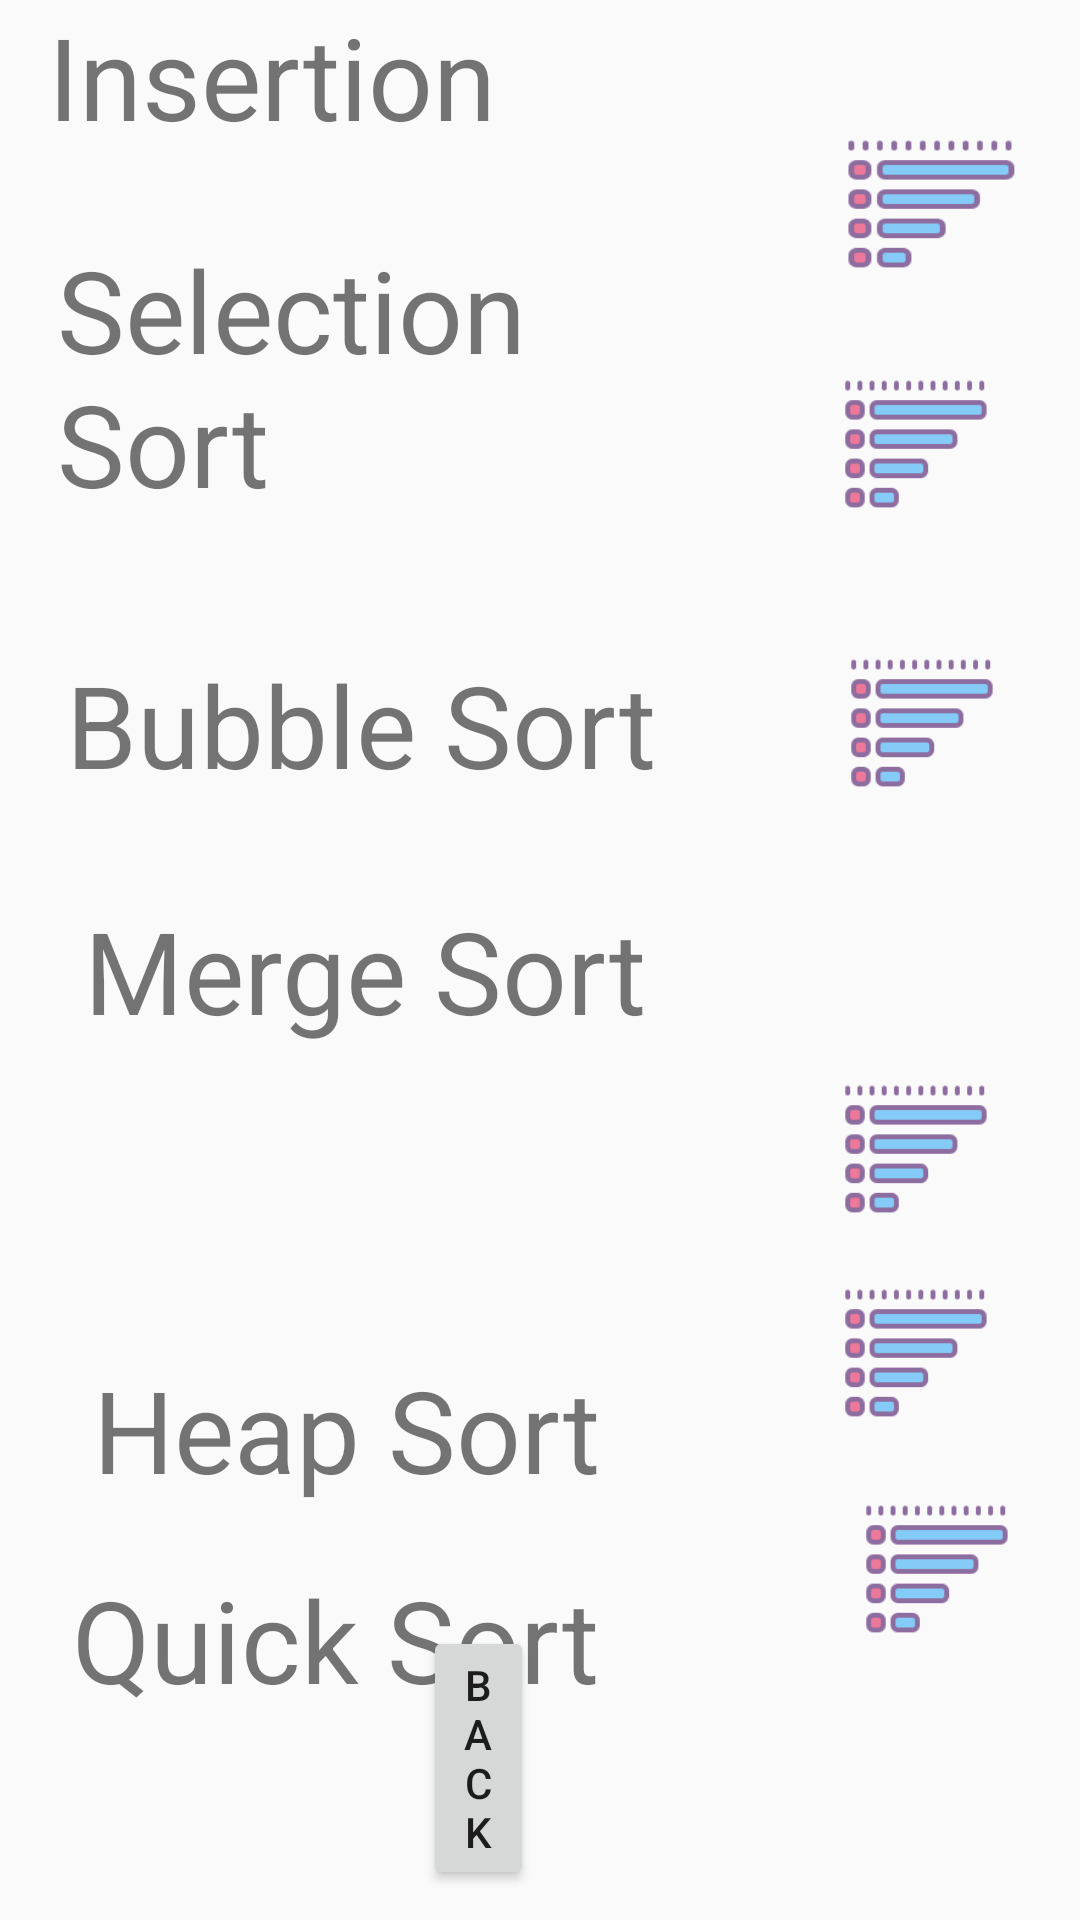

Where to tap for icons on this 1080px×1920px app screen, as point (x, y):
sorting: point (931, 204), point (916, 444), point (922, 723), point (916, 1149), point (916, 1353), point (937, 1569)
